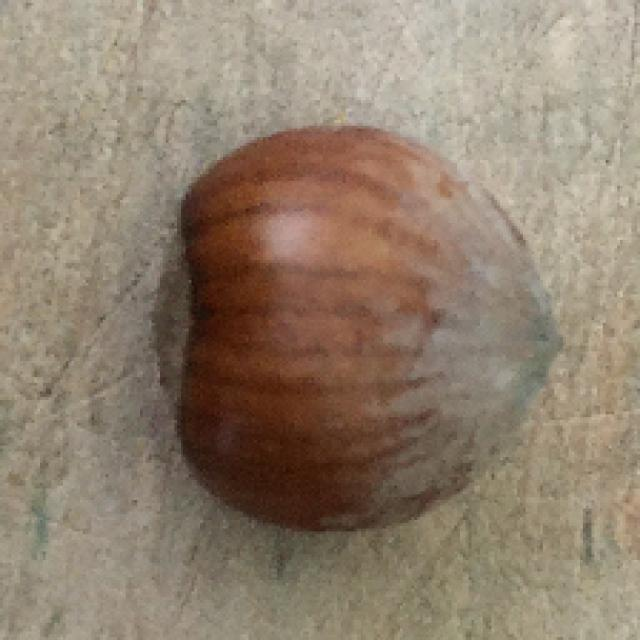QualityHazelnut: (146, 124, 571, 533)
